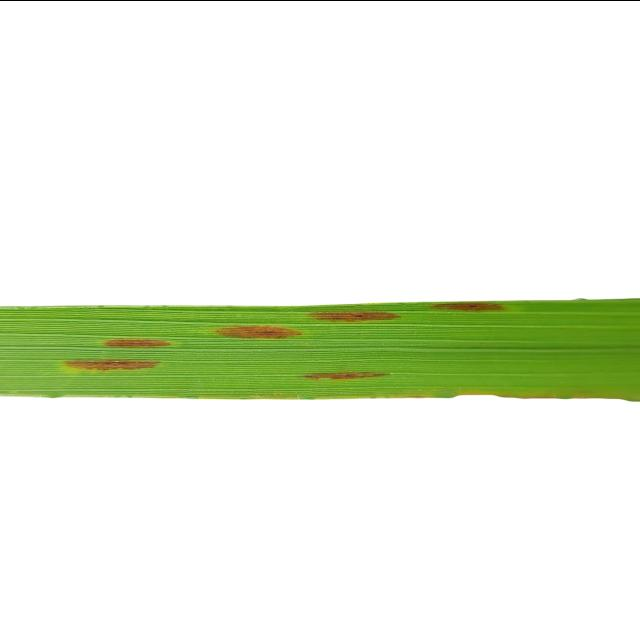Narrow brown: (0, 220, 640, 467)
